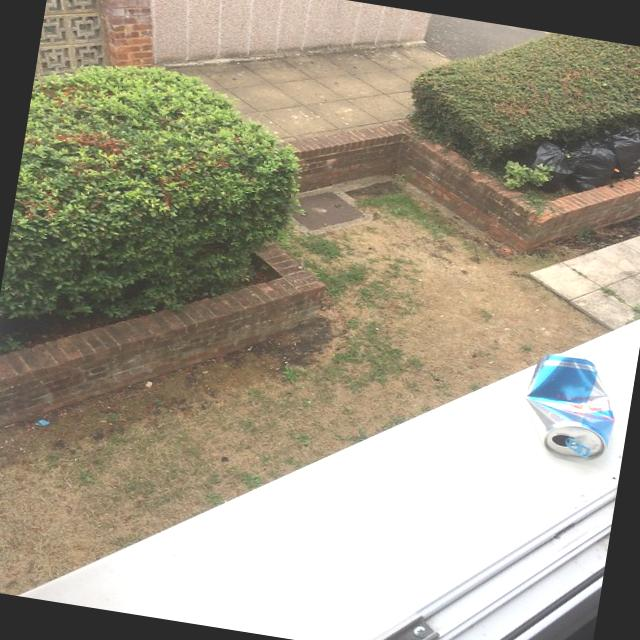Recycle: (516, 348, 630, 466)
